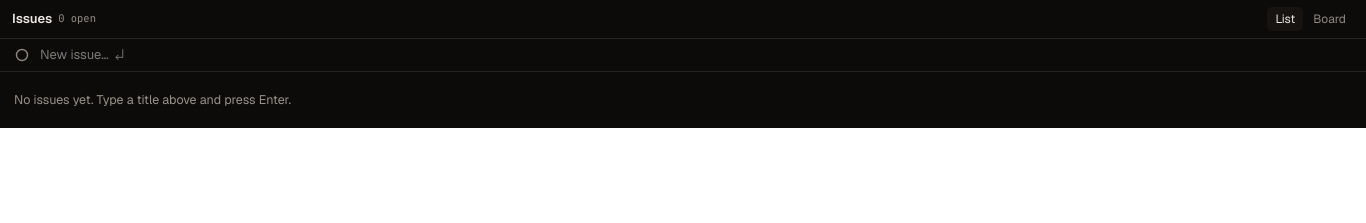
Test: the widget (the serve knows the issue kind: true) › numbers issues added in quick succession separately, and puts right a board that already shares a number
The image size is (1366, 223).
Expected: the text with test id "issues-empty" is shown, [14,91,291,108]
Type "first" into the field with test id "issue-new".
click(697, 55); type("first")  # box [40,45,1354,65]
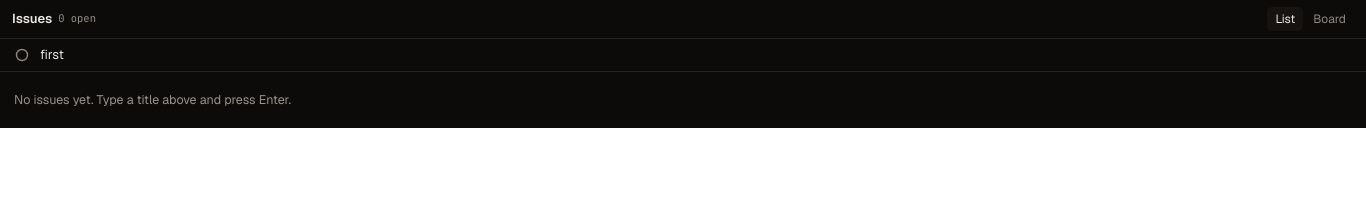
Press Enter in the field with test id "issue-new", box [40,45,1354,65]
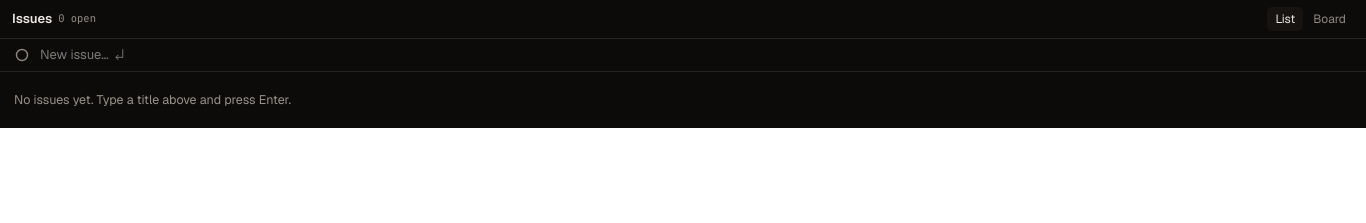
Type "second" into the field with test id "issue-new".
click(697, 55); type("second")  # box [40,45,1354,65]
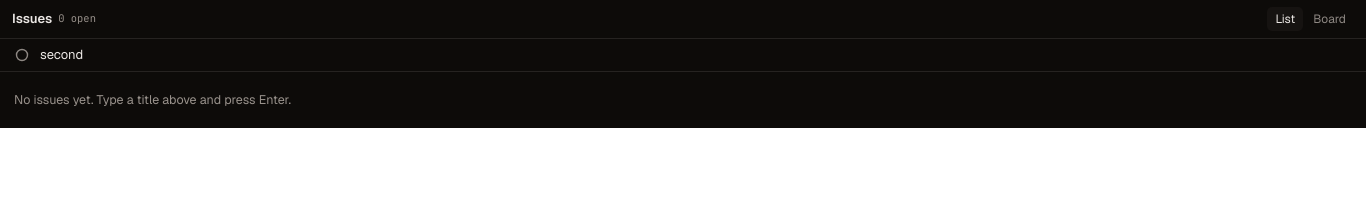
Press Enter in the field with test id "issue-new", box [40,45,1354,65]
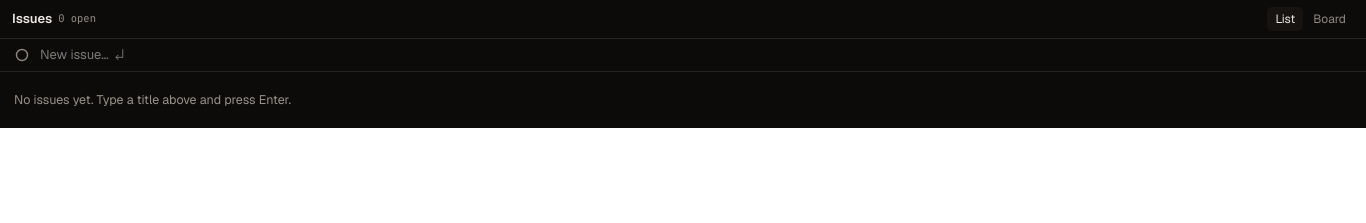
Type "third" into the field with test id "issue-new".
click(697, 55); type("third")  # box [40,45,1354,65]
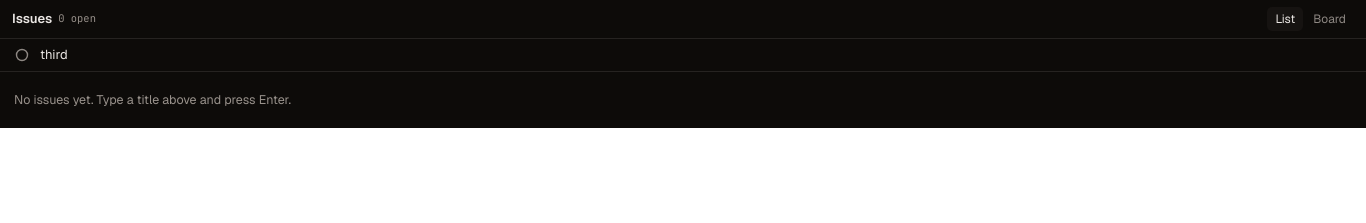
Press Enter in the field with test id "issue-new", box [40,45,1354,65]
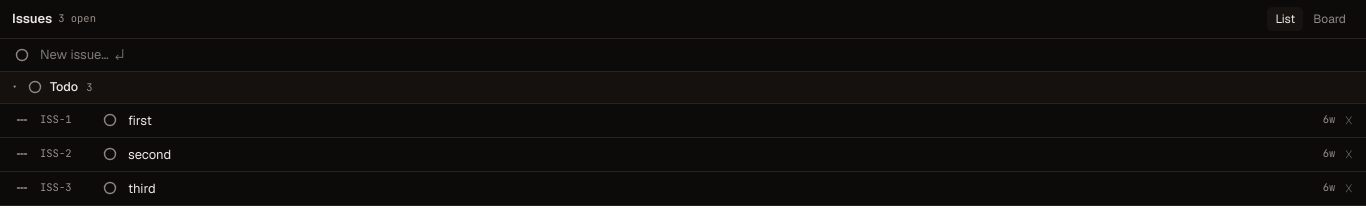
Expected: the number of elements with test id "issue-row" is 3, [0,104,1365,138]; [0,138,1365,172]; [0,172,1365,206]
